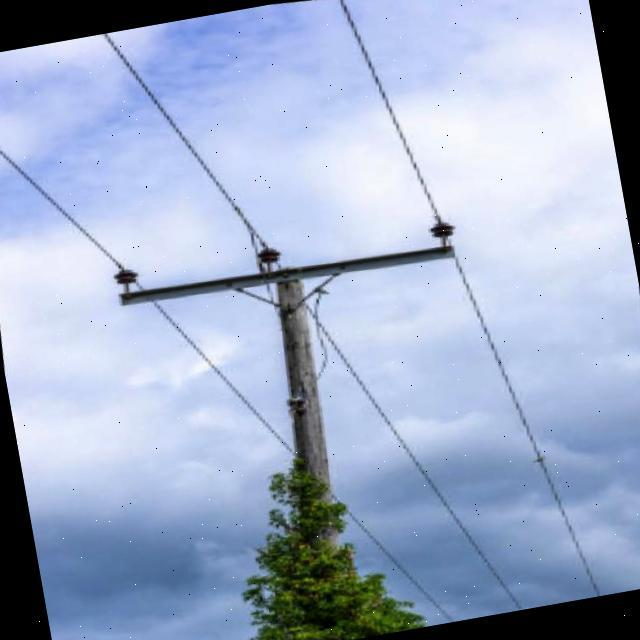critical vegetation: (234, 435, 399, 640)
